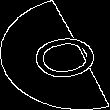O_E: (10, 26, 100, 84)
